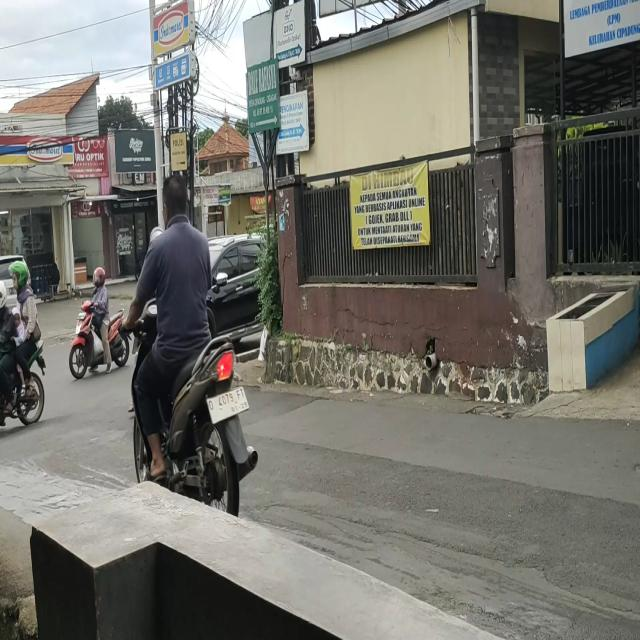helmet: (10, 256, 30, 294), (94, 268, 107, 290)
no-helmet: (160, 180, 189, 225), (13, 304, 22, 325)
